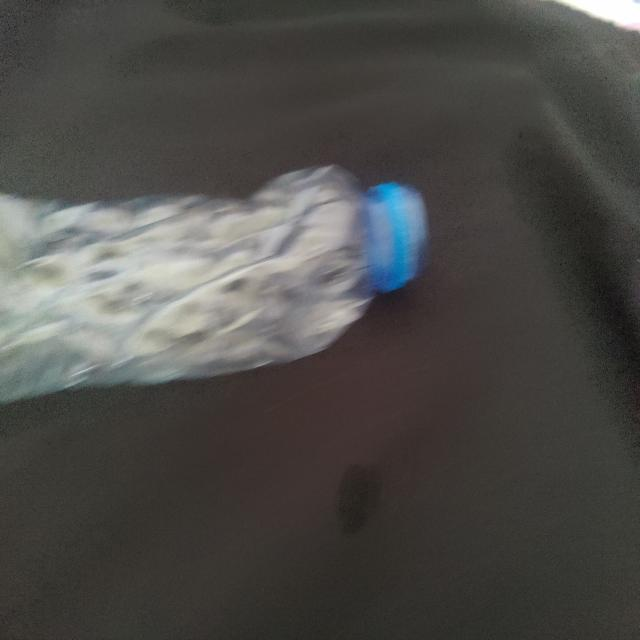plastic: (0, 166, 424, 396)
